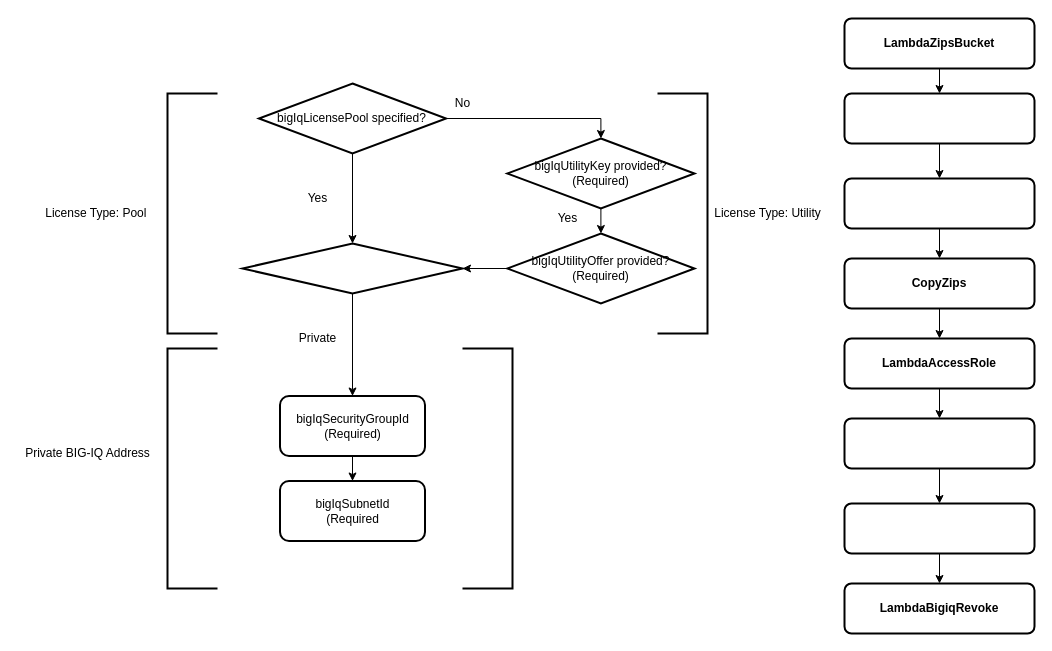
The diagram is 1052 pixels wide and 651 high, and some of its shapes have lost their labels. Here are the shapes that lost their labels. From the top down, the centre of each, then its label:
At pixel 939 118: "CopyZipsFunction".
At pixel 939 203: "CopyZipsRole".
At pixel 352 268: "bigIqAddressType".
At pixel 939 443: "LambdaInvokePermission".
At pixel 939 528: "SNSTopic".
